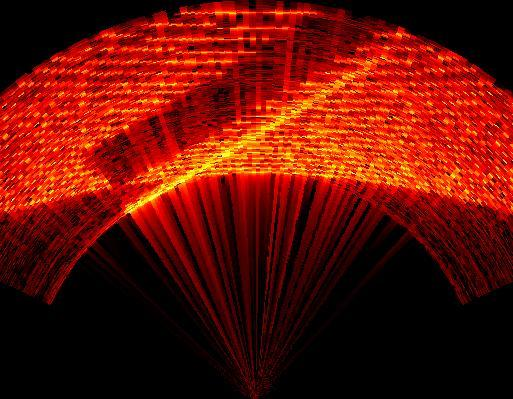pipe: (79, 10, 414, 214)
